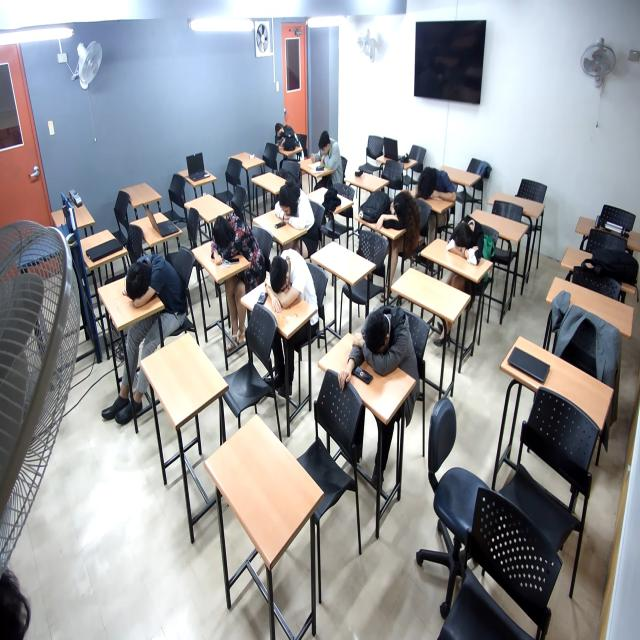sleep: (357, 301, 417, 381), (125, 250, 187, 314), (264, 250, 320, 318), (451, 209, 502, 277), (210, 211, 263, 270), (377, 189, 421, 243), (416, 164, 458, 207), (276, 183, 308, 230), (273, 122, 301, 155)
